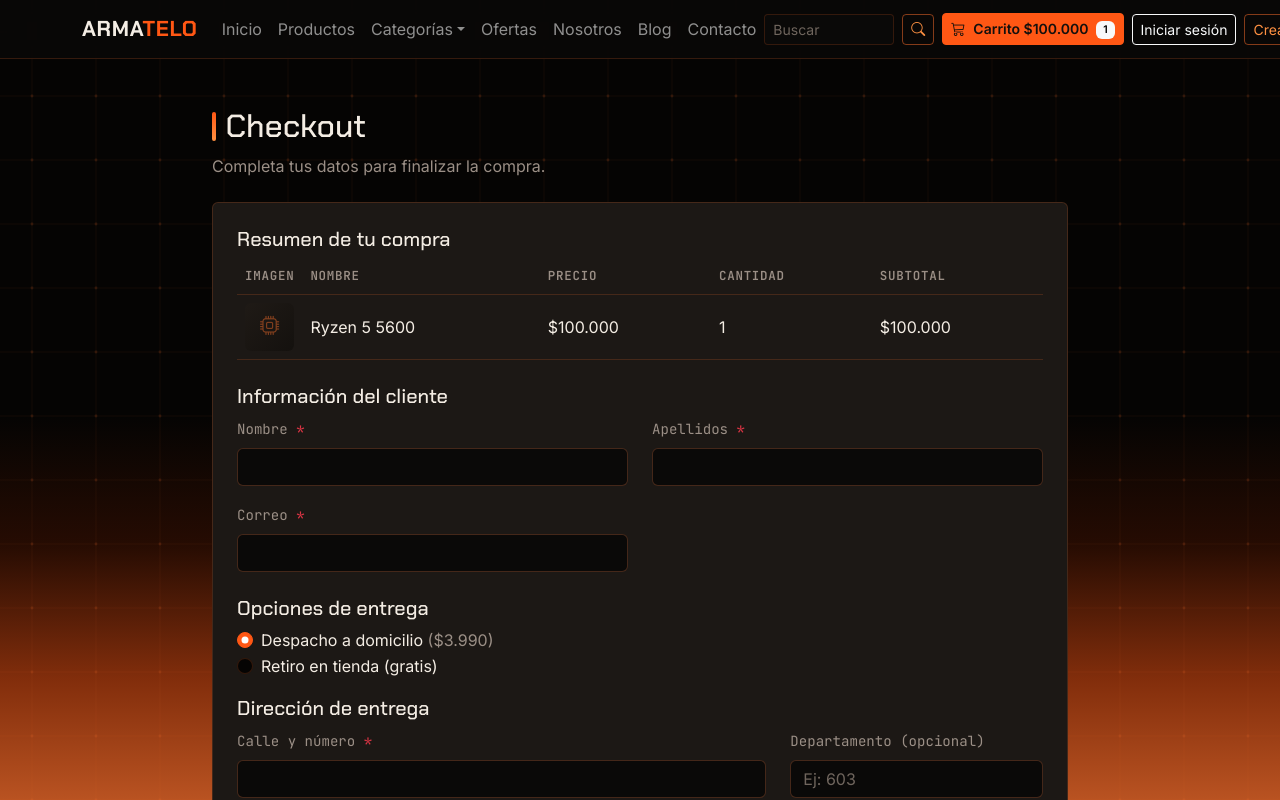
Test: Flujo de compra (integración) › un pago rechazado lleva a la vista de error y conserva el carrito
Type "Pedro" into the field labelled "Nombre *". click: (432, 467)
box: x1=237 y1=448 x2=628 y2=486
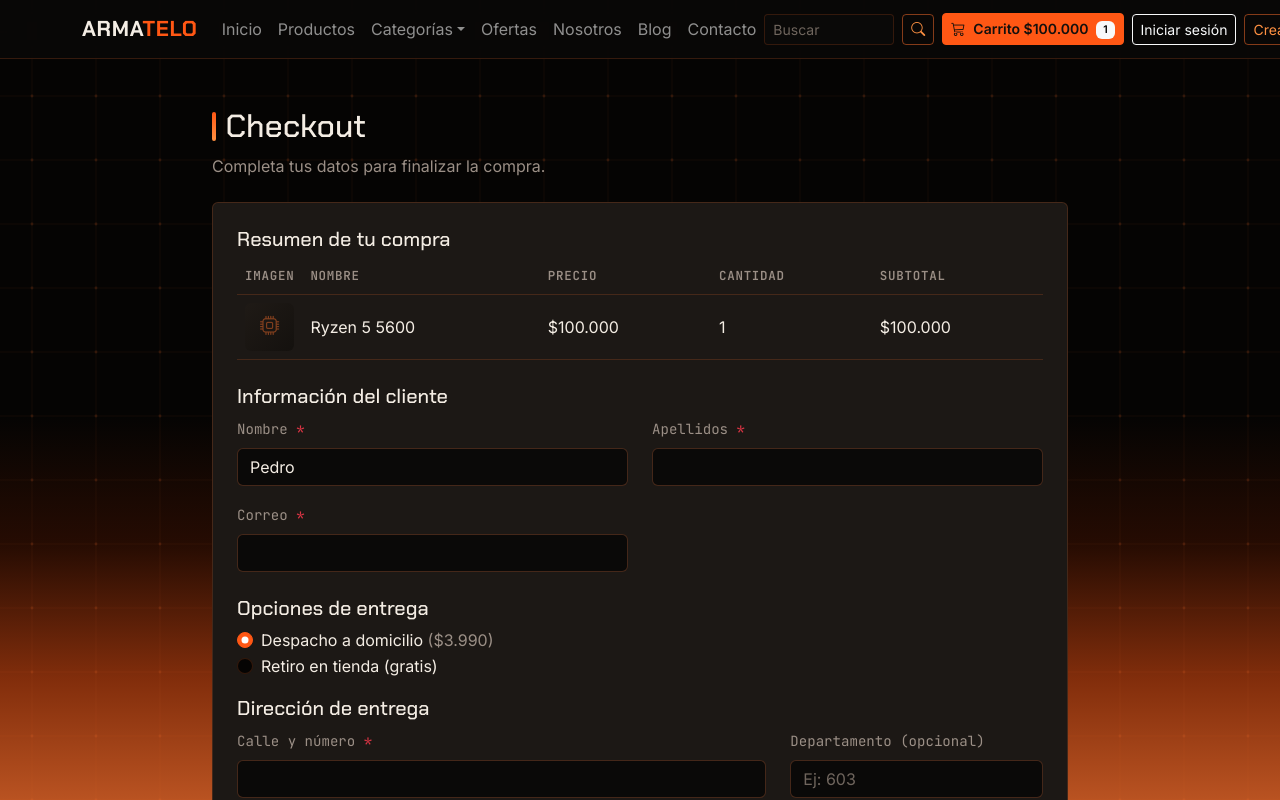
Type "Soto" into the field labelled "Apellidos *". click: (848, 467)
box: x1=652 y1=448 x2=1043 y2=486
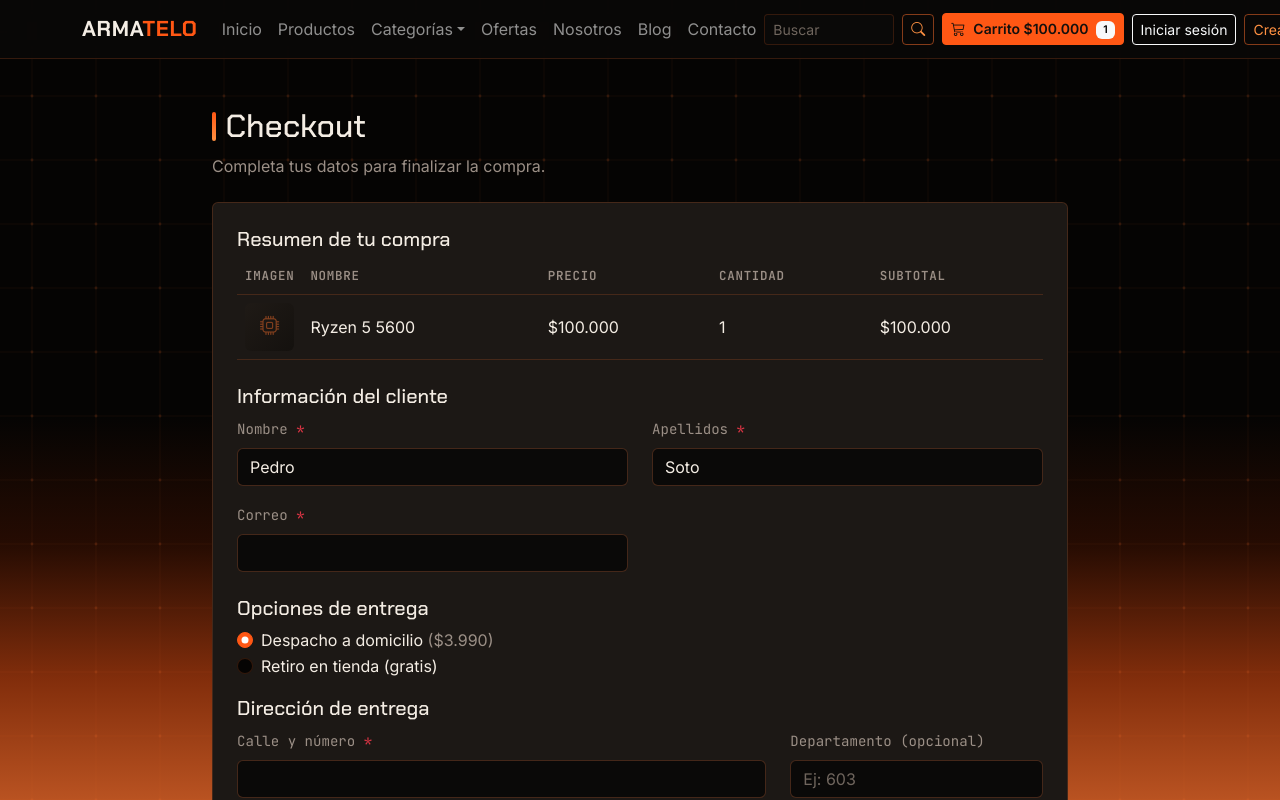
Type "pedro@correo.cl" into the field labelled "Correo *". click: (432, 553)
box: x1=237 y1=534 x2=628 y2=572
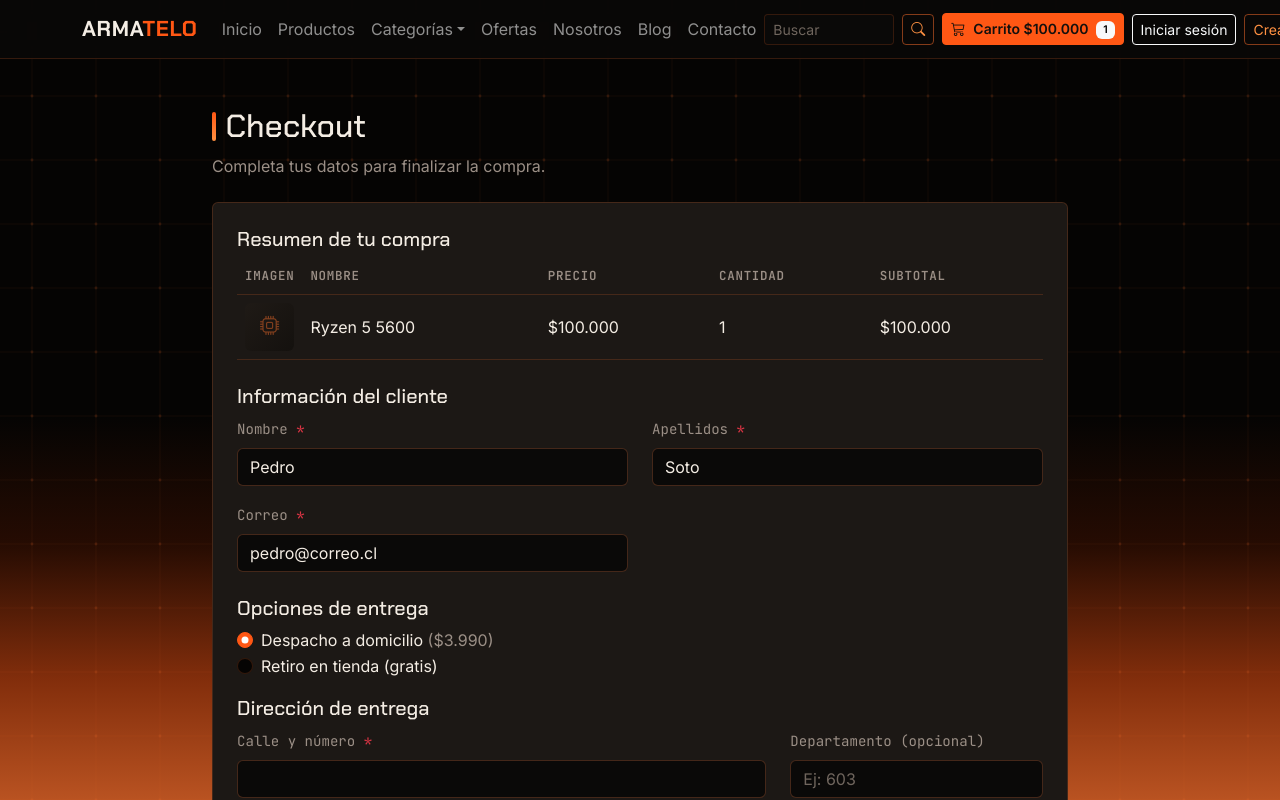
Click the radio button labelled "Retiro en tienda (gratis)". click: (245, 666)
box: x1=237 y1=658 x2=253 y2=674
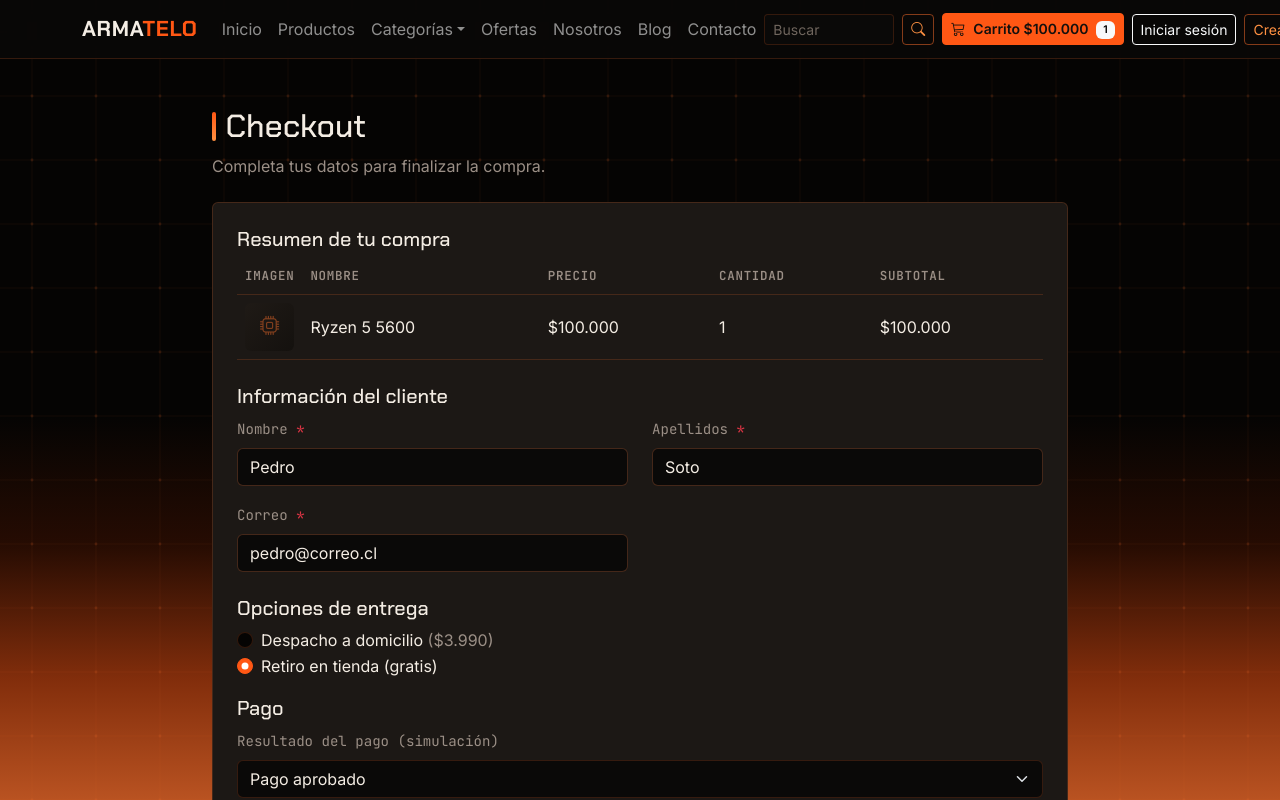
Select "Pago rechazado" in the dropdown labelled "Resultado del pago (simulación)". click: (640, 779)
box: x1=237 y1=760 x2=1043 y2=798
(page scrolled)
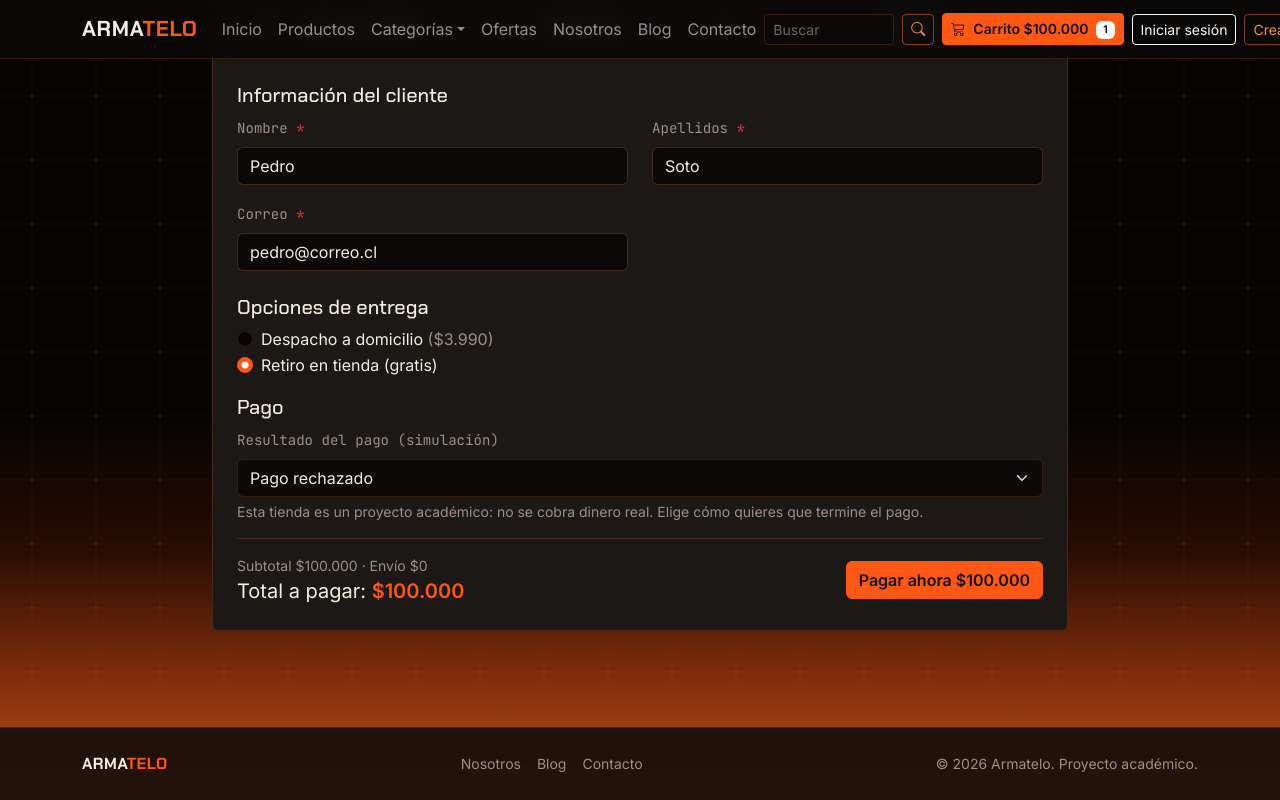
Click the button "Pagar ahora $100.000". click: (944, 580)
box: x1=846 y1=561 x2=1043 y2=599
(page scrolled)
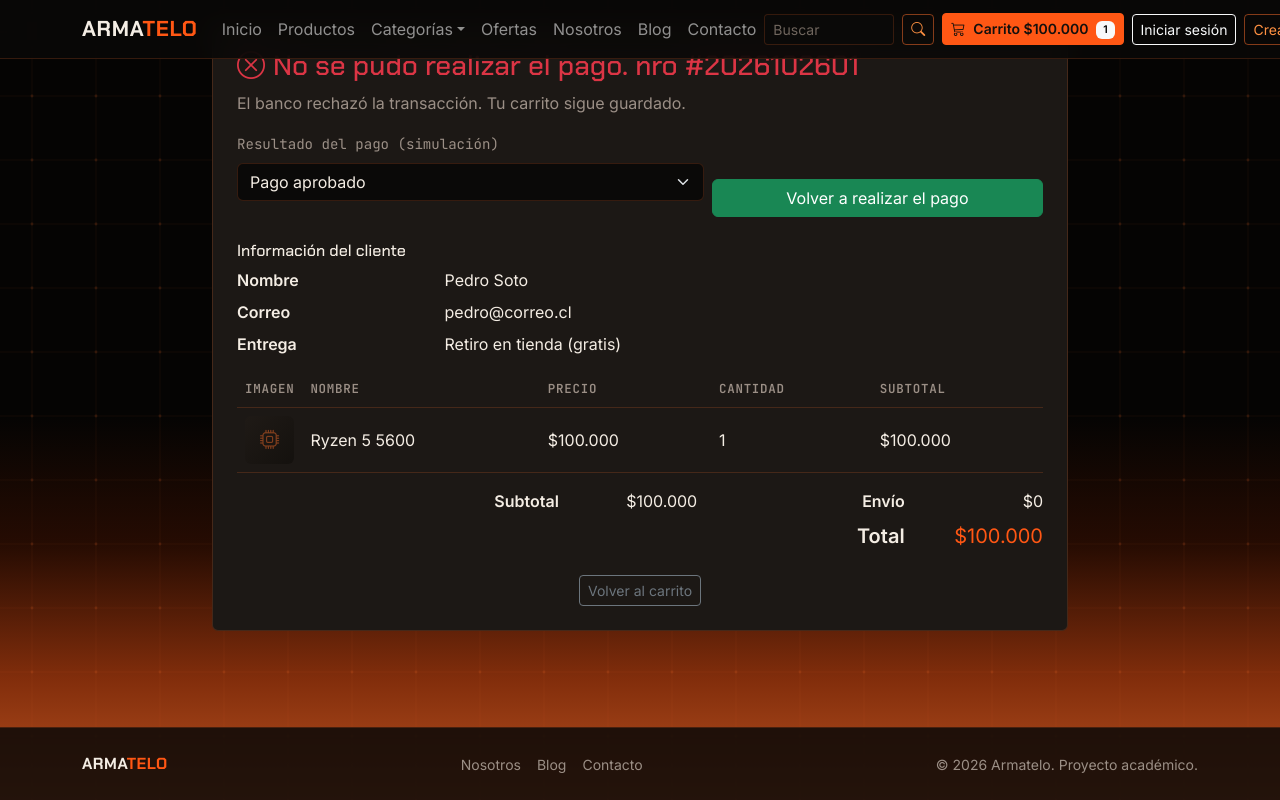
Expected: the heading "No se pudo realizar el pago. nro #2026102601" is shown, x1=237 y1=47 x2=859 y2=84
